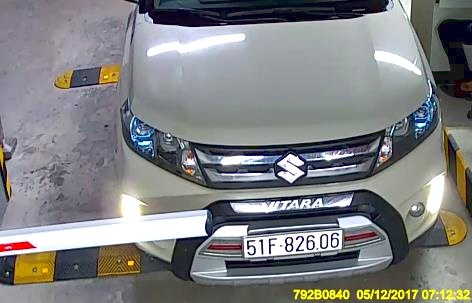plate: (241, 228, 345, 255)
